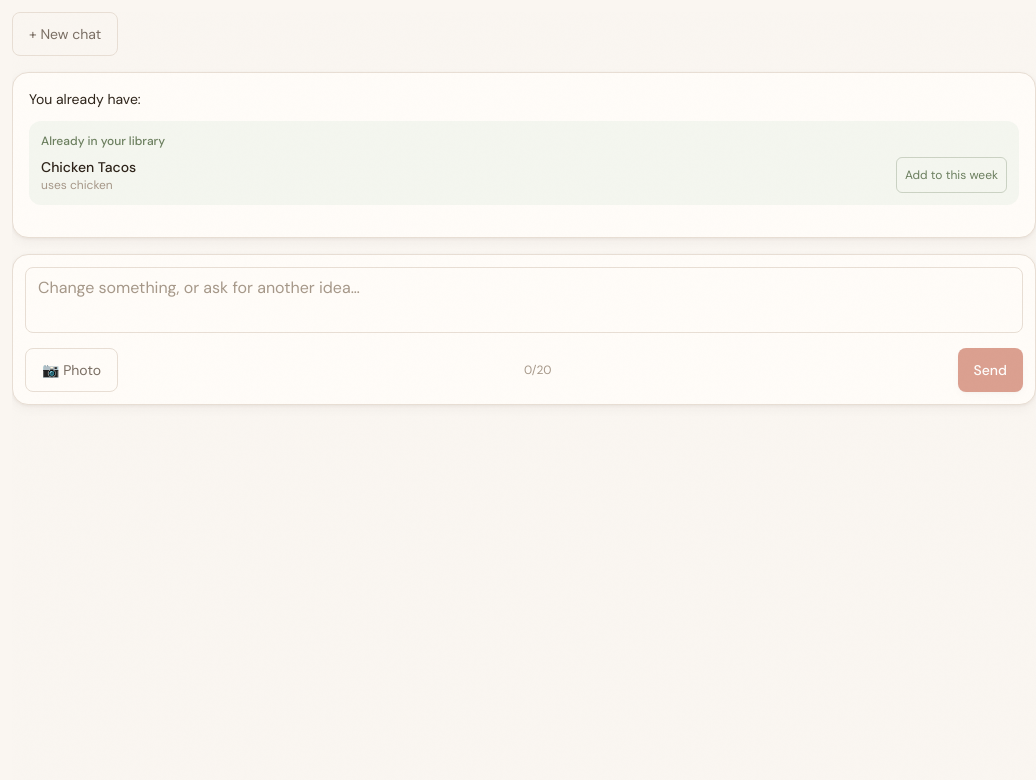
Test: RecipeGenerator › links library matches to the recipe (with a way back) and adds them to this week's plan
This screenshot has width=1036, height=780.
Click the button "Add to this week" at {"x": 952, "y": 175}, box [896,157,1007,193]
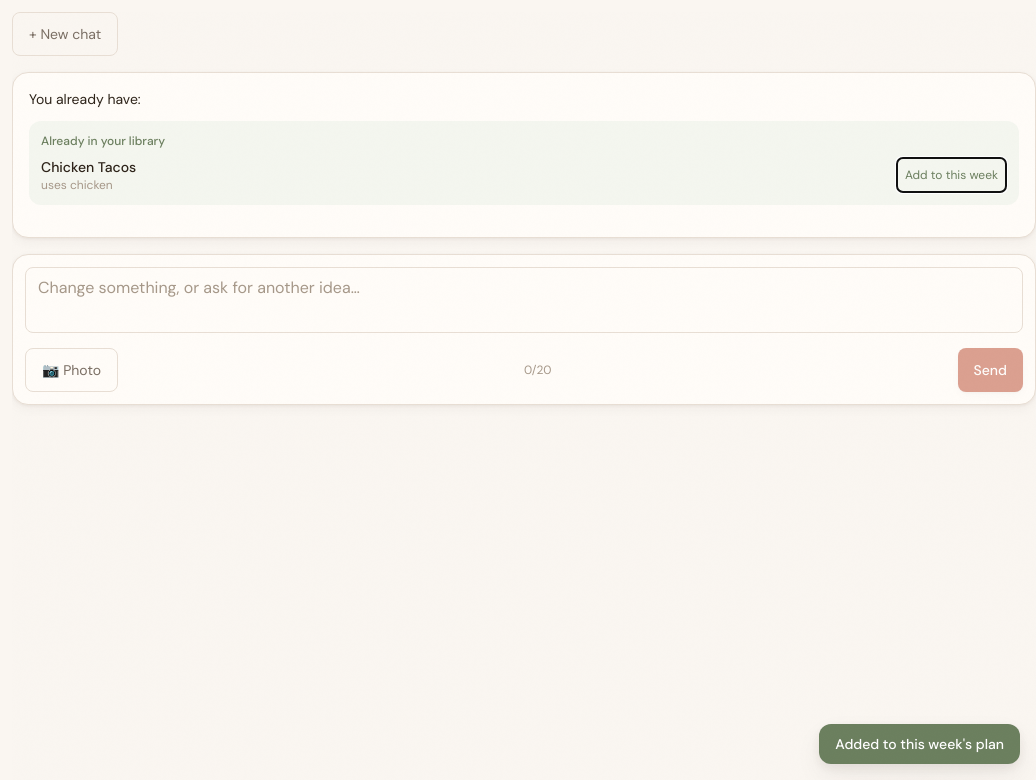
Expected: the text "Added to this week's plan" is shown, [819,724,1020,764]
